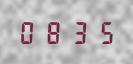eight: (42, 20, 65, 44)
five: (90, 20, 113, 44)
three: (66, 20, 89, 44)
zero: (18, 20, 41, 44)
